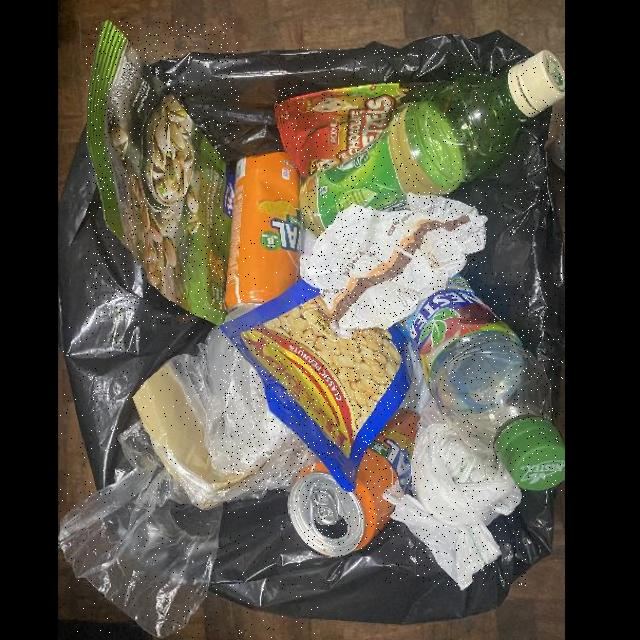metal: (290, 406, 421, 558), (225, 153, 303, 324)
paper: (302, 193, 486, 331)
plastic: (60, 325, 318, 638), (300, 48, 565, 236), (395, 273, 564, 492), (384, 345, 526, 586)
wrapper: (86, 22, 239, 325), (221, 281, 419, 493), (276, 80, 438, 178)
